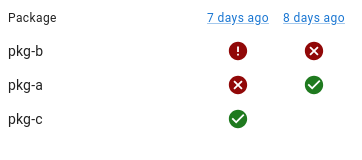
Test: MatrixTab › shows the newest run first, with relative dates and the exact date as a tooltip
Hover over the link "7 days ago" at (238, 18), box [207,11,269,25]
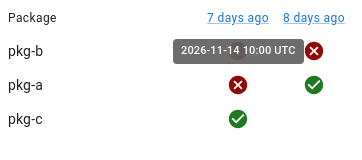
expect the tooltip reads "2026-11-14 10:00 UTC": met, box [181,44,296,57]
